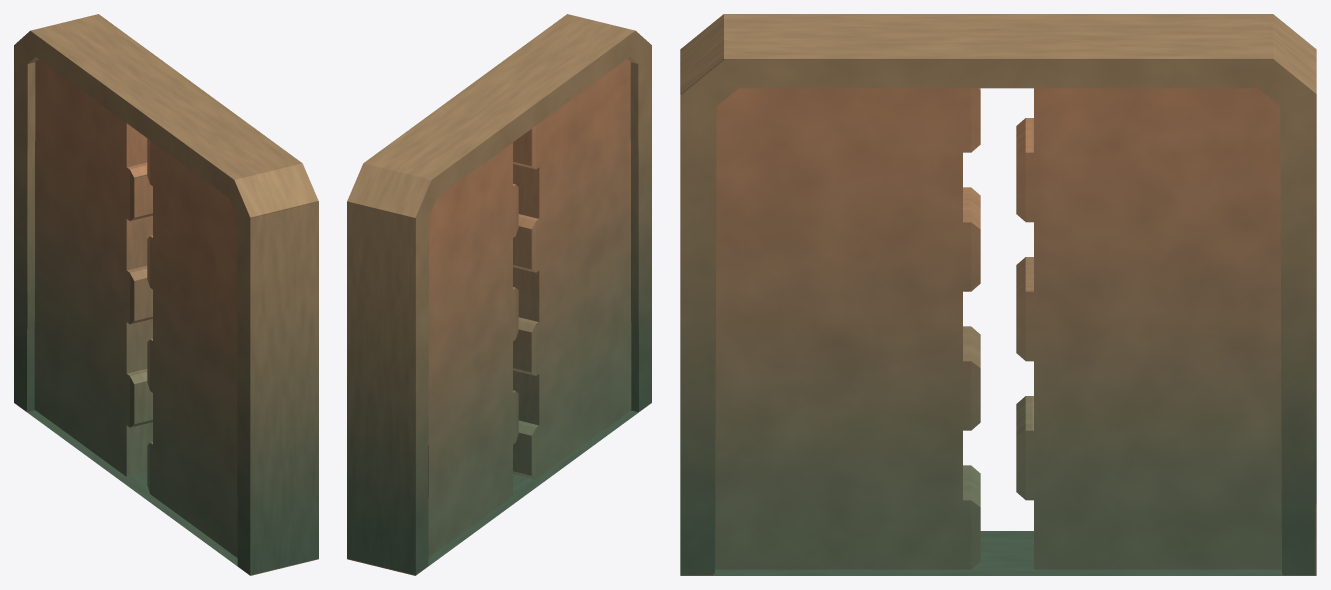
File: Electric_Door_Closed.fbx
The picture shows the model from 3 angles, left to right: view 1: azimuth 30°, elevation 25°; view 2: azimuth 150°, elevation 25°; view 3: azimuth 270°, elevation 25°; orthographic projection. The views are drawn at different scales.
Parts seen in each view (by area): view 1: Electric_Door_Open.001; view 2: Electric_Door_Open.001; view 3: Electric_Door_Open.001.
Boxes of the visible parts, <box> form: Electric_Door_Open.001: <box>14,14,318,575</box>; Electric_Door_Open.001: <box>347,14,651,575</box>; Electric_Door_Open.001: <box>680,14,1316,575</box>.
Bounding box in the file's own units: 29.94 × 161 × 179.
